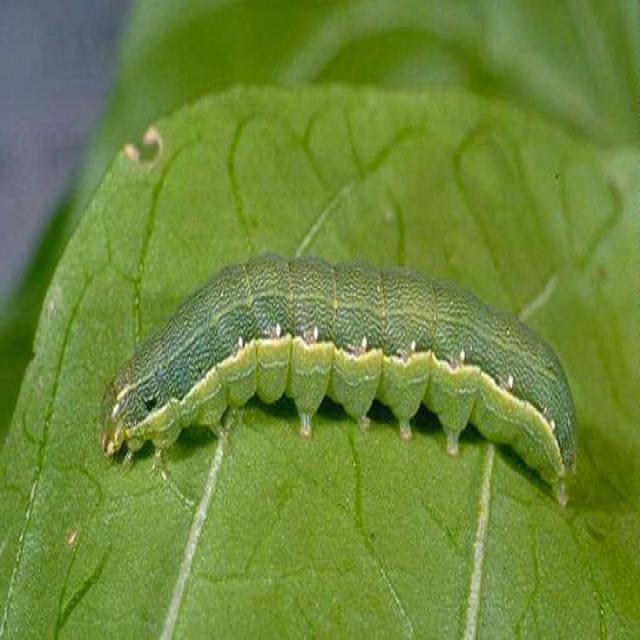BeetArmyWorm-Larva-: (92, 250, 584, 524)
